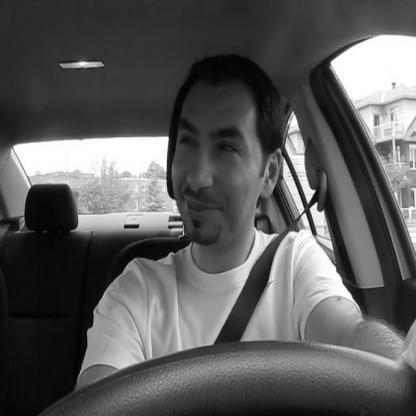seatbelt: (156, 50, 333, 416)
